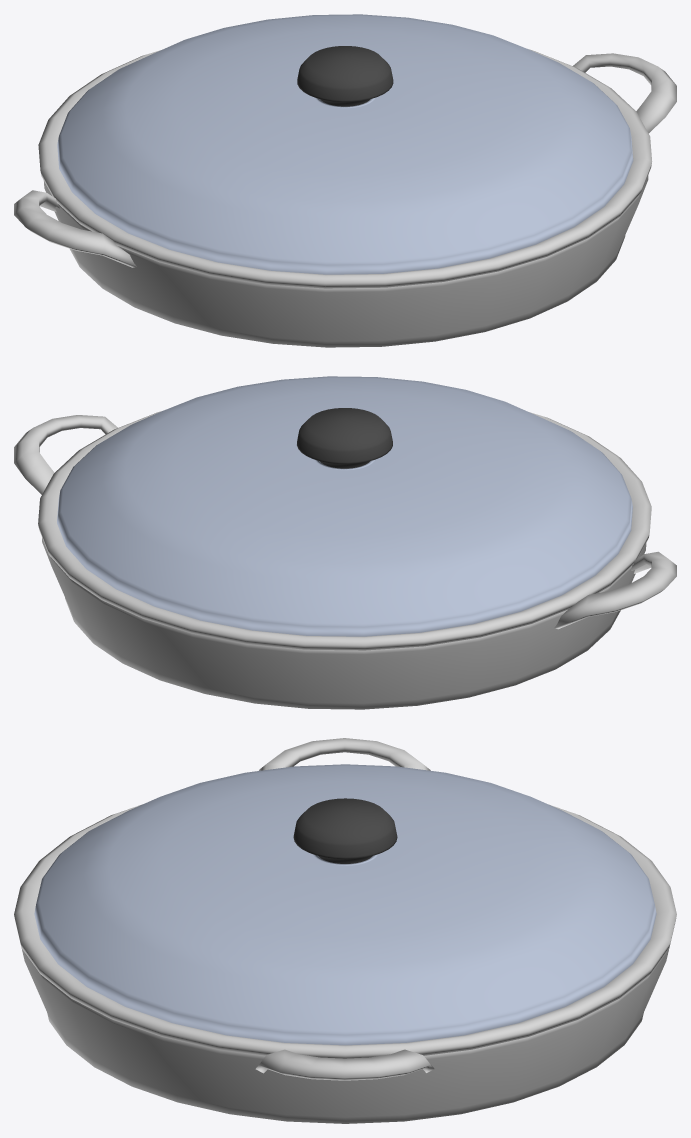
File: Pan2.fbx
3 renders of one model, top to bottom at view 1: azimuth 30°, elevation 25°; view 2: azimuth 150°, elevation 25°; view 3: azimuth 270°, elevation 25°, orthographic. The views are drawn at different scales.
Parts seen in each view (by area): view 1: Cylinder.007, Cylinder.004; view 2: Cylinder.007, Cylinder.004; view 3: Cylinder.007, Cylinder.004.
Boxes of the visible parts, x1,y1,x2,y2 form: Cylinder.007: [38, 14, 652, 288]; Cylinder.004: [14, 53, 676, 347]; Cylinder.007: [38, 376, 651, 650]; Cylinder.004: [14, 415, 676, 709]; Cylinder.007: [14, 764, 676, 1058]; Cylinder.004: [21, 738, 669, 1123].
Size of the model in its own units: 251 by 66.7 by 209.
